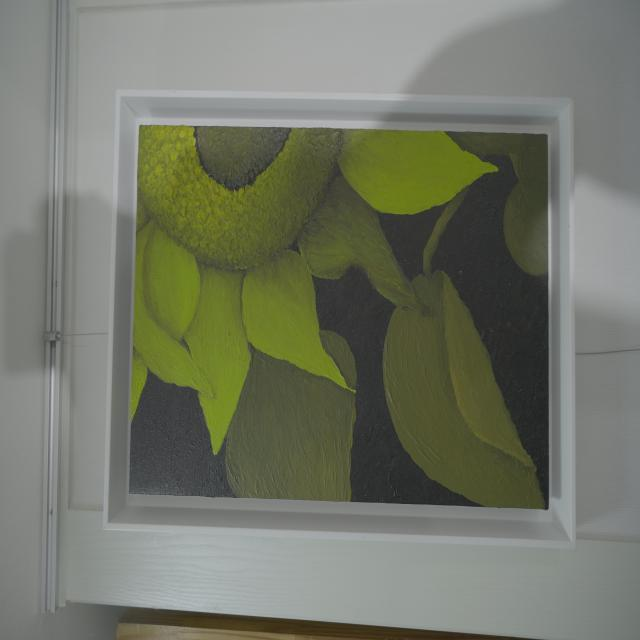painting: (130, 125, 548, 508)
